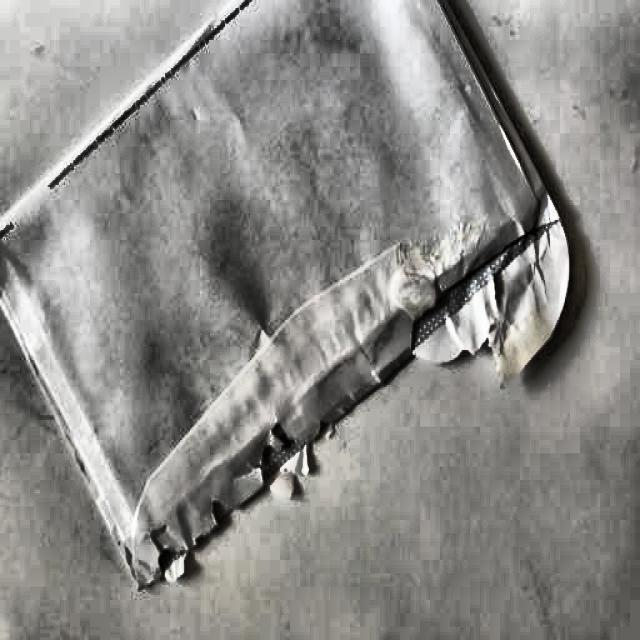paper: (1, 3, 586, 598)
